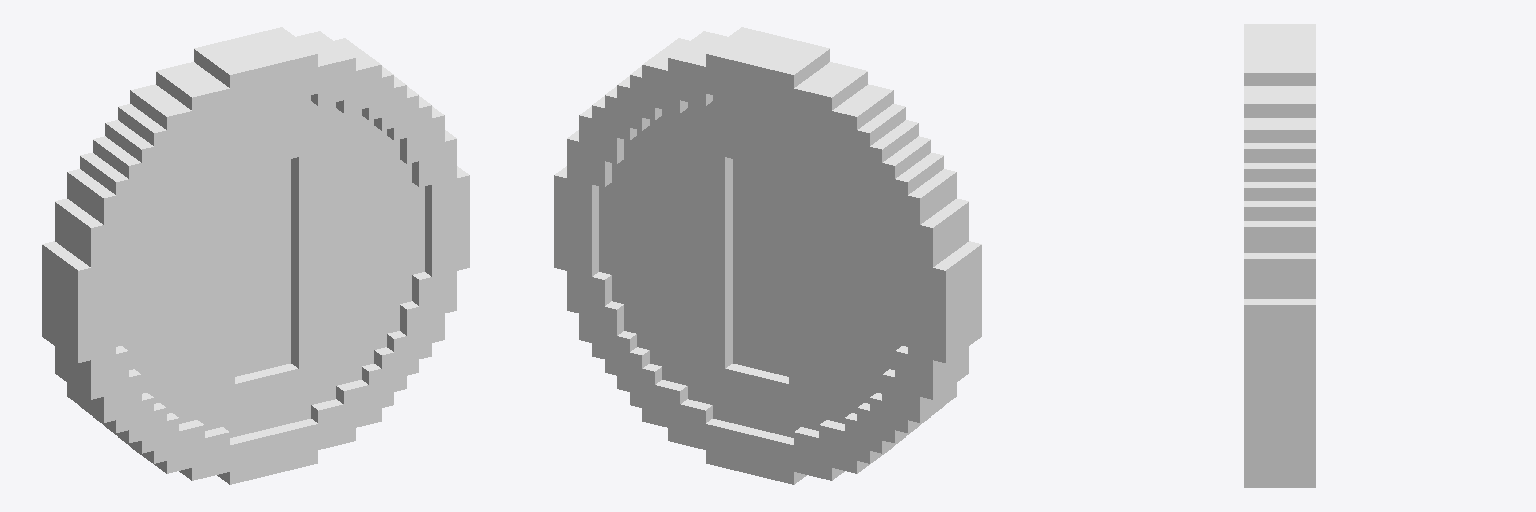
File: gold_coin.obj
3 renders of one model, left to right at view 1: azimuth 30°, elevation 25°; view 2: azimuth 150°, elevation 25°; view 3: azimuth 270°, elevation 25°, orthographic.
Bounding box in the file's own units: 31 × 31 × 5.